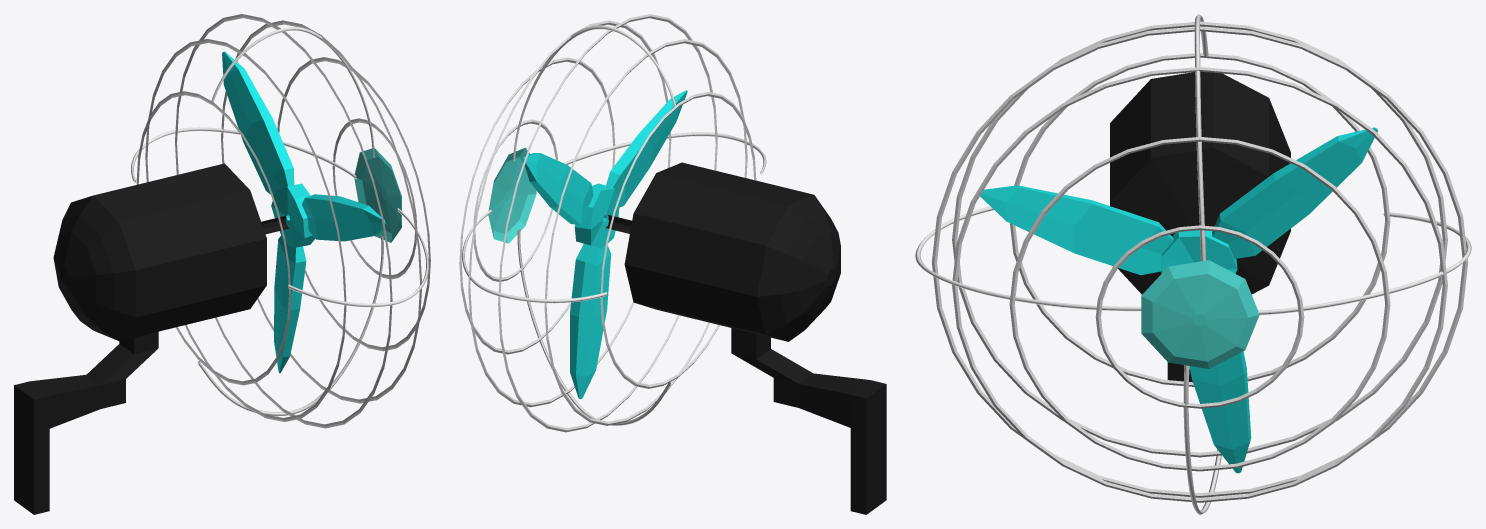
File: Wall_Fan.fbx
The picture shows the model from 3 angles, left to right: view 1: azimuth 30°, elevation 25°; view 2: azimuth 150°, elevation 25°; view 3: azimuth 270°, elevation 25°; orthographic projection. The views are drawn at different scales.
Visible parts, largest first — view 1: Body, Screen, Elesi, Cube, Cylinder.003; view 2: Body, Screen, Elesi, Cube, Cylinder.003; view 3: Screen, Elesi, Body, Cylinder.003.
Boxes of the visible parts, x1,y1,x2,y2 form: Body: (53, 163, 289, 340); Screen: (131, 14, 430, 428); Elesi: (222, 51, 385, 373); Cube: (14, 331, 158, 514); Cylinder.003: (354, 148, 401, 242); Body: (606, 162, 840, 341); Screen: (459, 14, 766, 432); Elesi: (523, 90, 687, 399); Cube: (731, 328, 886, 514); Cylinder.003: (488, 147, 536, 243); Screen: (915, 14, 1471, 514); Elesi: (980, 127, 1377, 473); Body: (1110, 71, 1290, 294); Cylinder.003: (1141, 260, 1259, 368).
Bounding box in the file's own units: 553 × 603 × 596.
